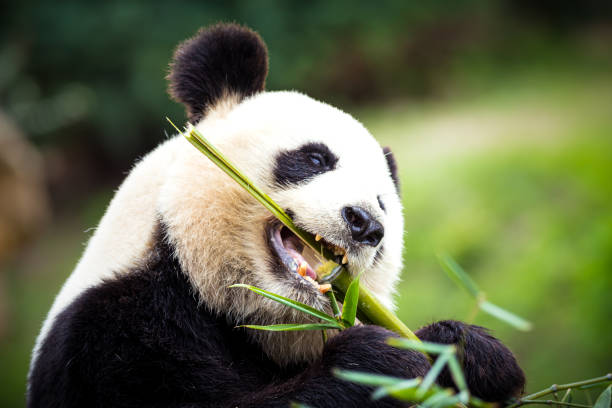panda: (126, 15, 454, 375)
